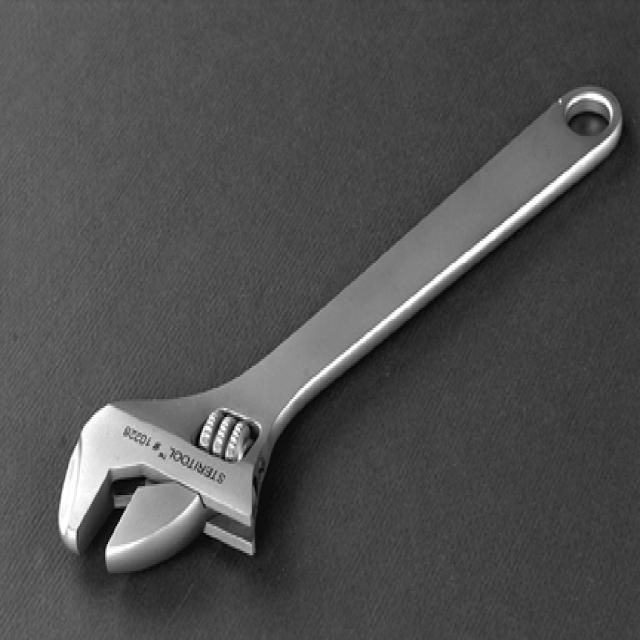wrench: (51, 76, 630, 586)
